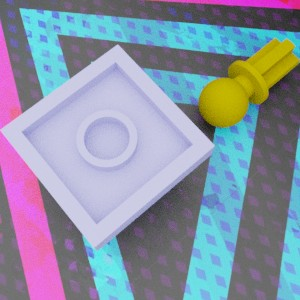lego: (0, 44, 214, 251), (198, 37, 300, 127)
